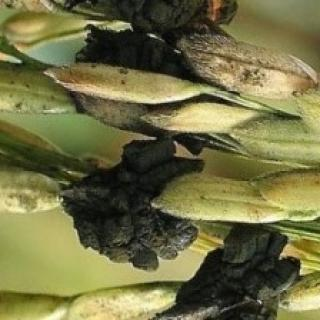Gosong-Palsu: (60, 136, 209, 270), (154, 226, 299, 319), (116, 0, 236, 34)
